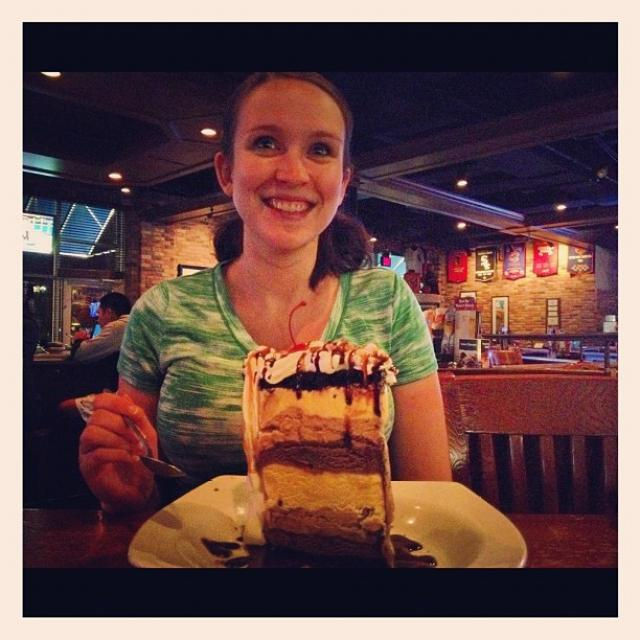chair: (440, 375, 620, 506)
dining table: (27, 499, 617, 571), (478, 332, 617, 371), (442, 361, 616, 379)
